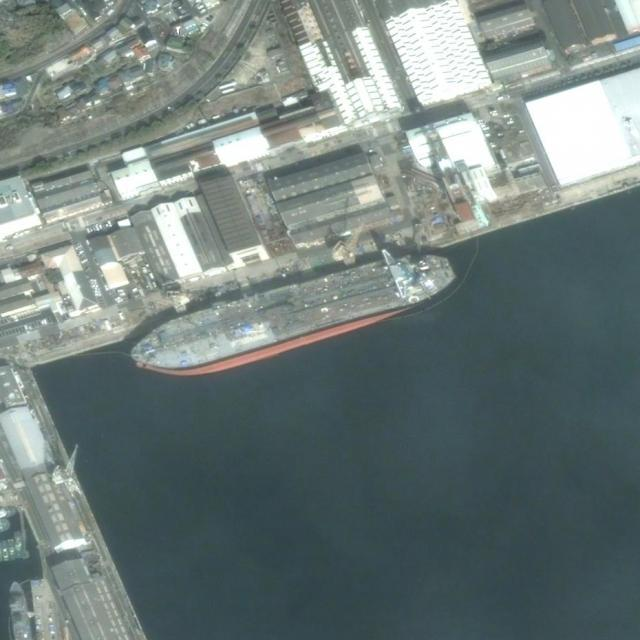Oil Tanker: (123, 239, 466, 391)
